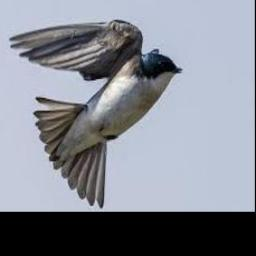Swallow: (9, 20, 182, 207)
